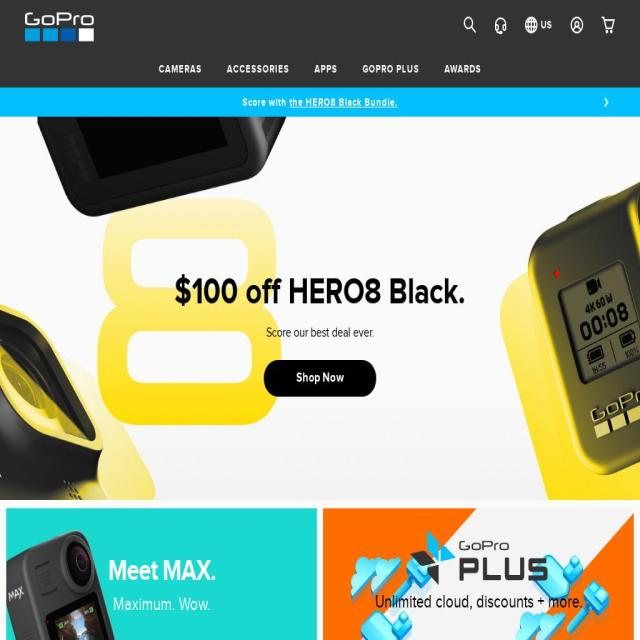button: (264, 359, 376, 397), (214, 51, 302, 87), (350, 51, 432, 87), (146, 51, 214, 87), (432, 51, 494, 87), (25, 13, 94, 42), (302, 51, 350, 87)
heading: (0, 322, 640, 343), (6, 555, 317, 587), (288, 268, 466, 315), (174, 268, 288, 315)
image: (410, 530, 548, 585), (25, 13, 94, 42)
link: (290, 95, 398, 109)
text: (44, 588, 279, 622), (361, 585, 596, 619), (227, 62, 289, 76), (362, 62, 420, 76), (242, 95, 290, 109), (159, 62, 202, 76), (444, 62, 482, 76), (314, 62, 338, 76), (540, 18, 552, 32)
